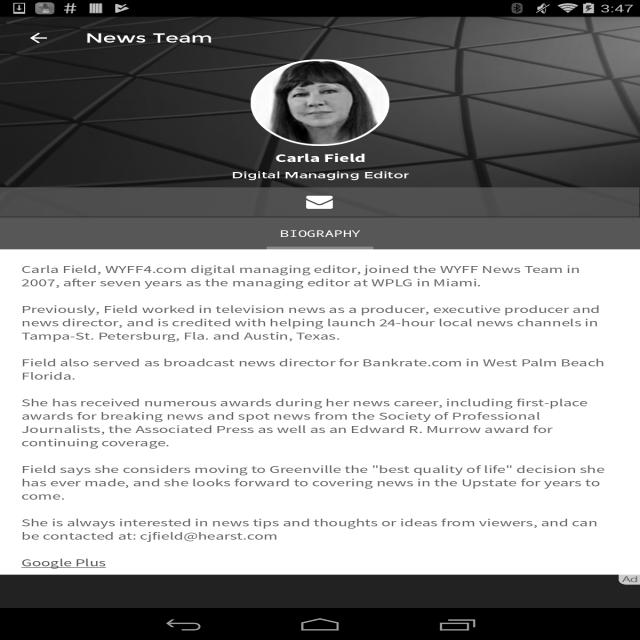ImageButton: (9, 17, 68, 59)
ImageView: (0, 17, 640, 217), (251, 59, 389, 146), (618, 574, 640, 584)
TextView: (21, 263, 619, 596), (0, 187, 639, 216), (231, 169, 409, 181), (85, 30, 213, 46), (275, 150, 365, 167), (280, 227, 360, 240)
